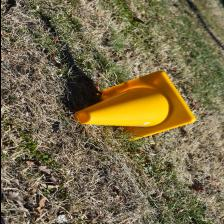cone: (72, 70, 195, 140)
